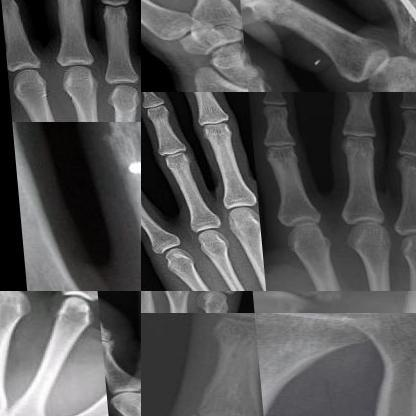fracture: (110, 144, 140, 264)
